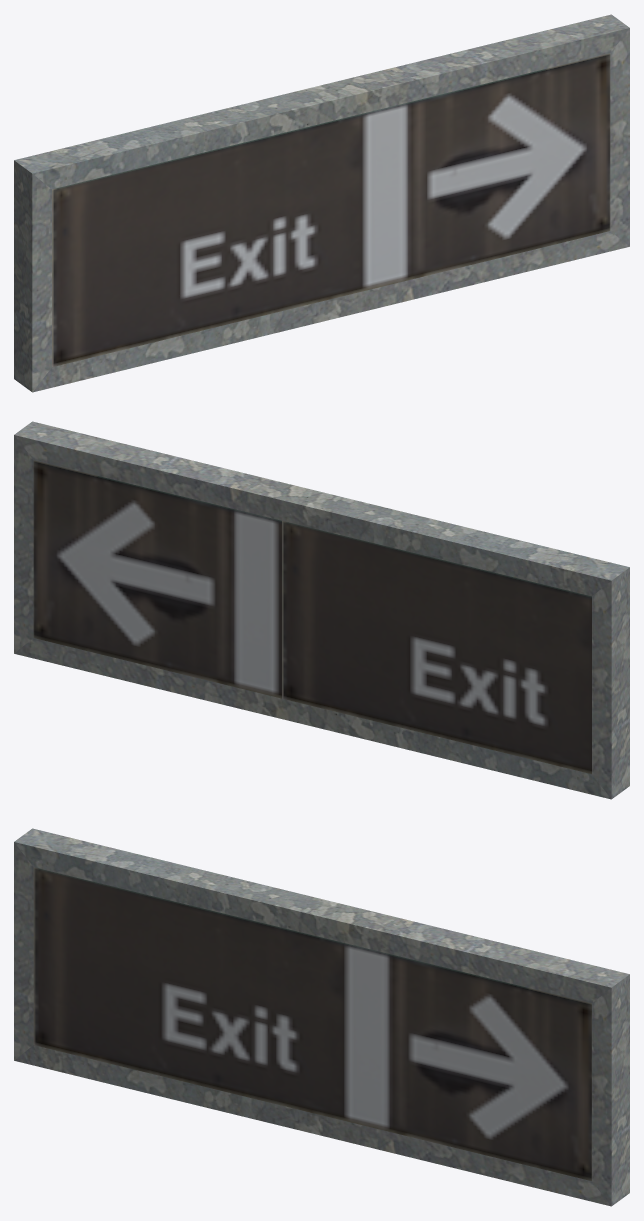
File: Sign-ExitRight.fbx
3 renders of one model, top to bottom at view 1: azimuth 30°, elevation 25°; view 2: azimuth 150°, elevation 25°; view 3: azimuth 330°, elevation 25°, orthographic.
Visible parts, largest first — view 1: Sign-ExitRight; view 2: Sign-ExitRight; view 3: Sign-ExitRight.
Part boxes in pixels (x1,y1,x2,y2): Sign-ExitRight: (14,14,629,392); Sign-ExitRight: (14,421,629,799); Sign-ExitRight: (14,828,629,1206).
Size of the model in its own units: 153 by 53.36 by 8.15.
